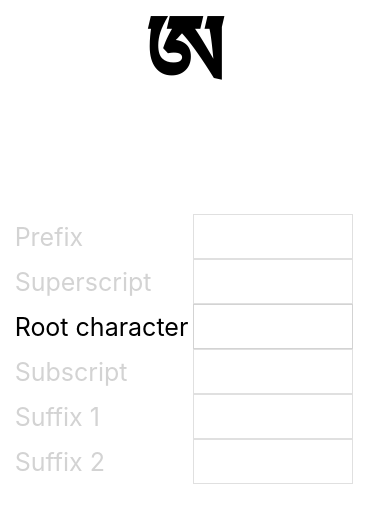
returns the correct result: with subscript "ya"
Select "ག" in the dropdown next to "Root character" at coordinates (273, 326), box [193,304,353,349]
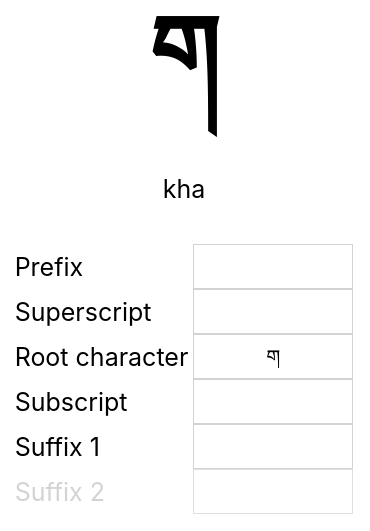
Select "ཡ" in the dropdown with id "subscript" at coordinates (273, 402), box [193,379,353,424]
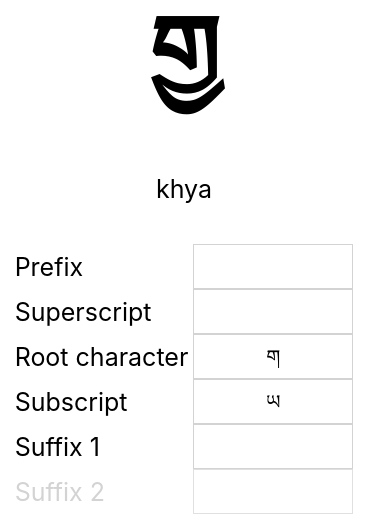
Check: the text with class "display--transliteration" reads "khya", box [156,174,212,204]
